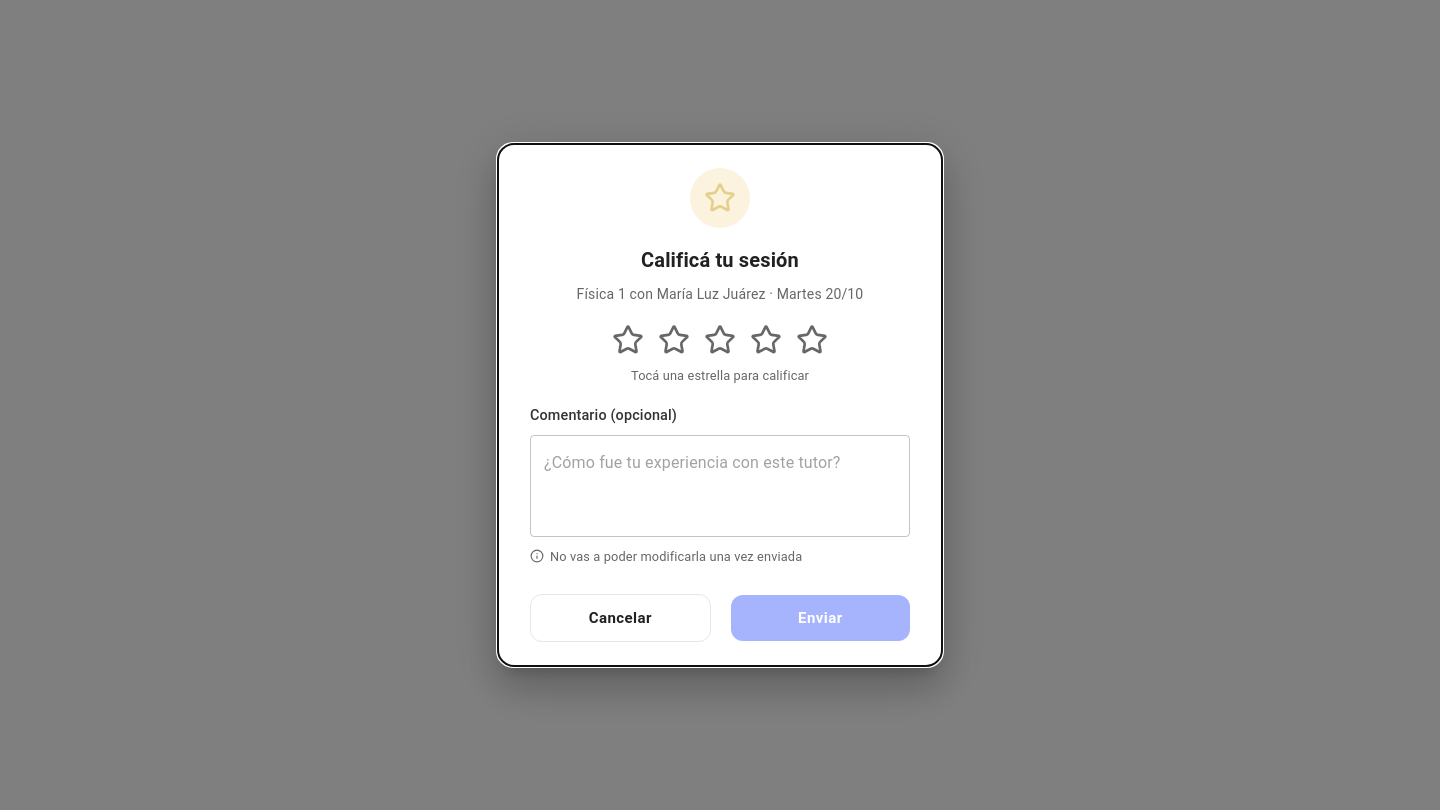
it: RateBookingDialog › mantiene Enviar deshabilitado hasta elegir un puntaje
Expected: the button "Enviar" is disabled, [731, 595, 910, 641]
Click the radio button named "5 estrellas": (812, 340) [792, 320, 832, 360]
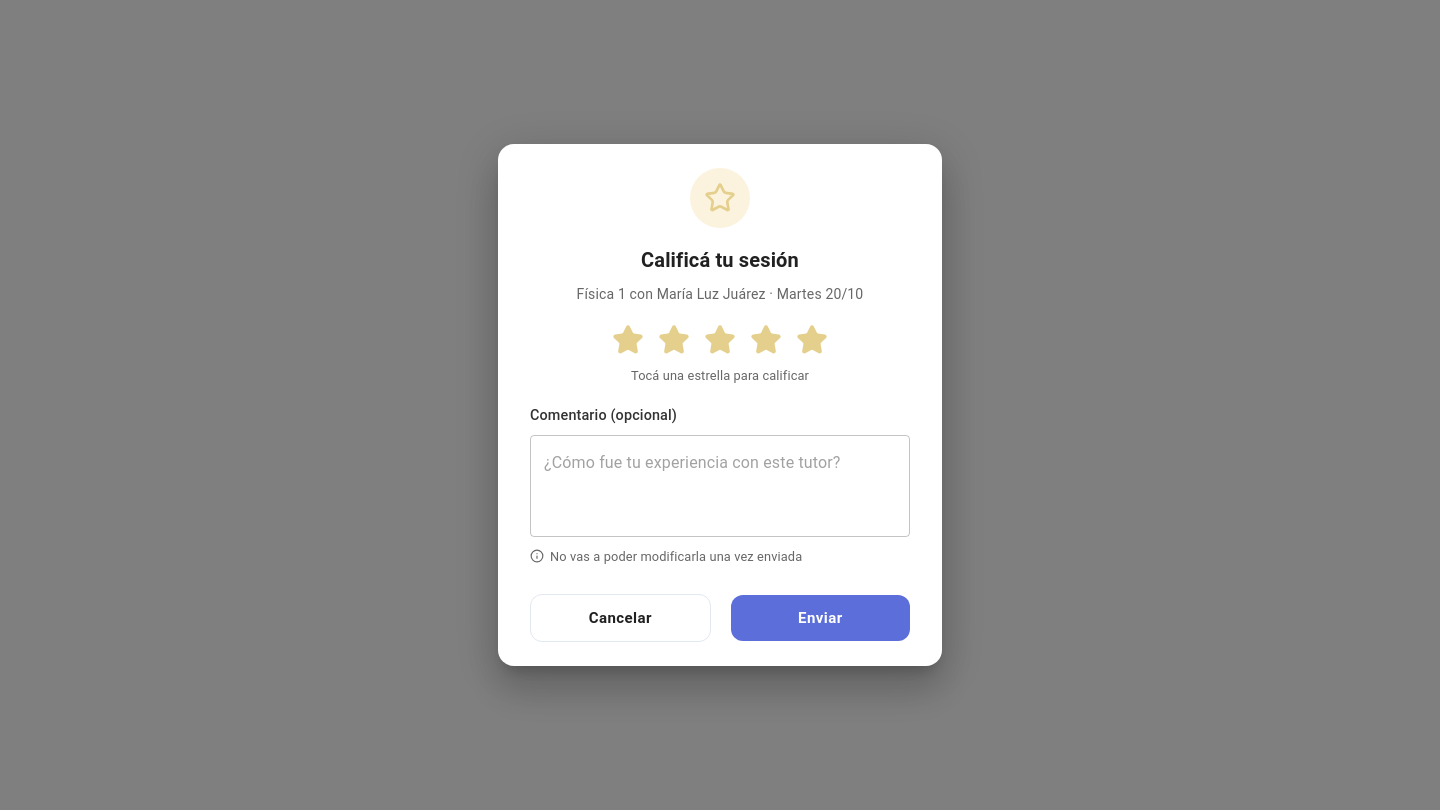
Now the button "Enviar" is enabled, box [731, 595, 910, 641]
